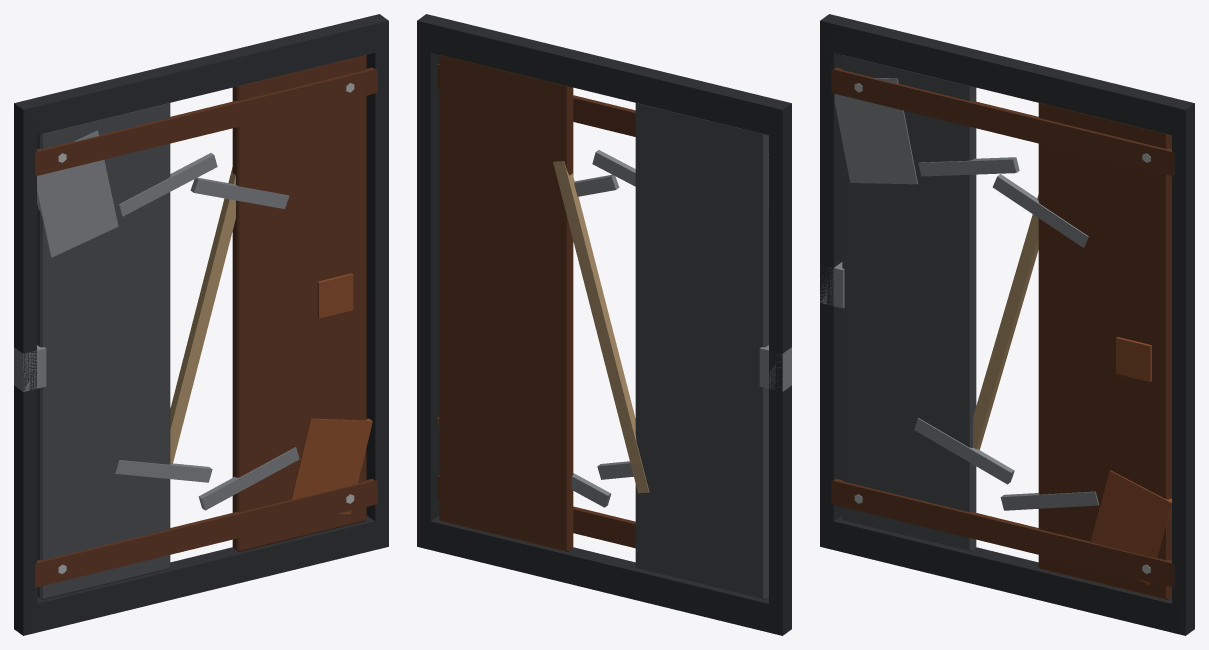
The model's file is piece_door_steel_critical.fbx.
3 renders of one model, left to right at view 1: azimuth 30°, elevation 25°; view 2: azimuth 150°, elevation 25°; view 3: azimuth 330°, elevation 25°, orthographic.
Visible parts, largest first — view 1: piece_door_steel_critical; view 2: piece_door_steel_critical; view 3: piece_door_steel_critical.
Boxes of the visible parts, x1,y1,x2,y2 form: piece_door_steel_critical: (14,14,388,635); piece_door_steel_critical: (417,14,791,635); piece_door_steel_critical: (820,14,1194,635).
Bounding box in the file's own units: 1.6 × 2.2 × 0.073.
